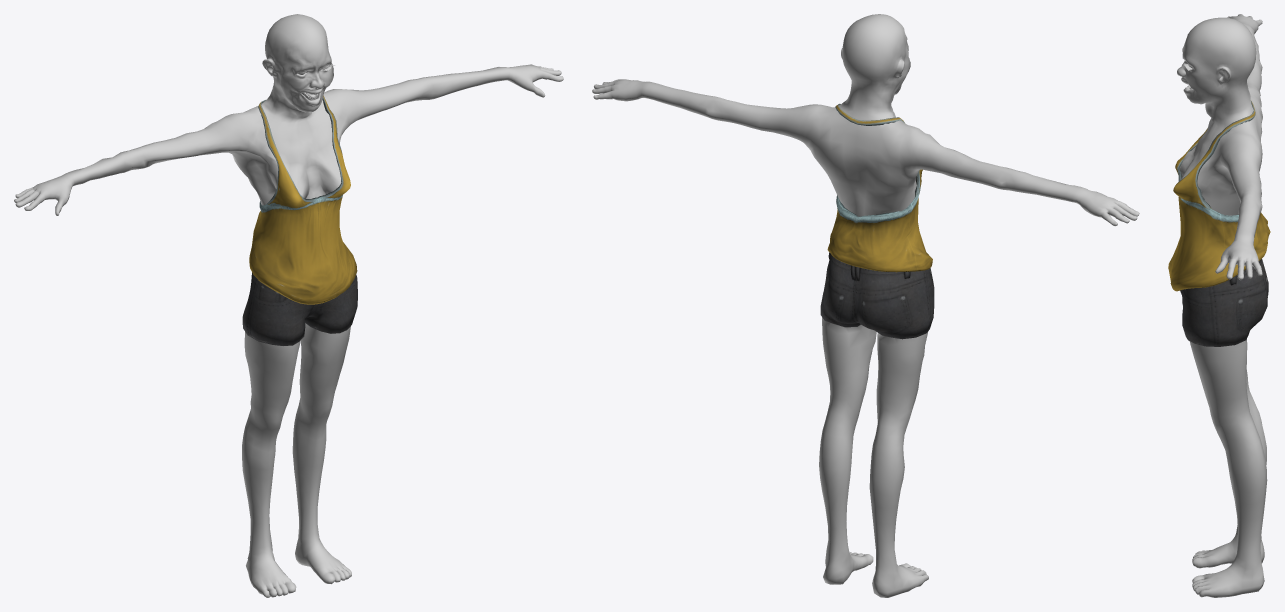
The model's file is zombif1.obj.
3 renders of one model, left to right at view 1: azimuth 30°, elevation 25°; view 2: azimuth 150°, elevation 25°; view 3: azimuth 270°, elevation 25°, orthographic.
Parts seen in each view (by area): view 1: Body, Tops, Bottoms; view 2: Body, Bottoms, Tops; view 3: Body, Tops, Bottoms.
Boxes of the visible parts, bbox=[...] form: Body: bbox=[14, 14, 563, 597]; Tops: bbox=[249, 96, 357, 304]; Bottoms: bbox=[242, 272, 357, 345]; Body: bbox=[592, 14, 1139, 597]; Bottoms: bbox=[820, 252, 934, 339]; Tops: bbox=[827, 103, 932, 272]; Body: bbox=[1177, 14, 1267, 597]; Tops: bbox=[1168, 101, 1270, 291]; Bottoms: bbox=[1180, 259, 1268, 346].
Bounding box in the file's own units: 178 × 176 × 29.22.
